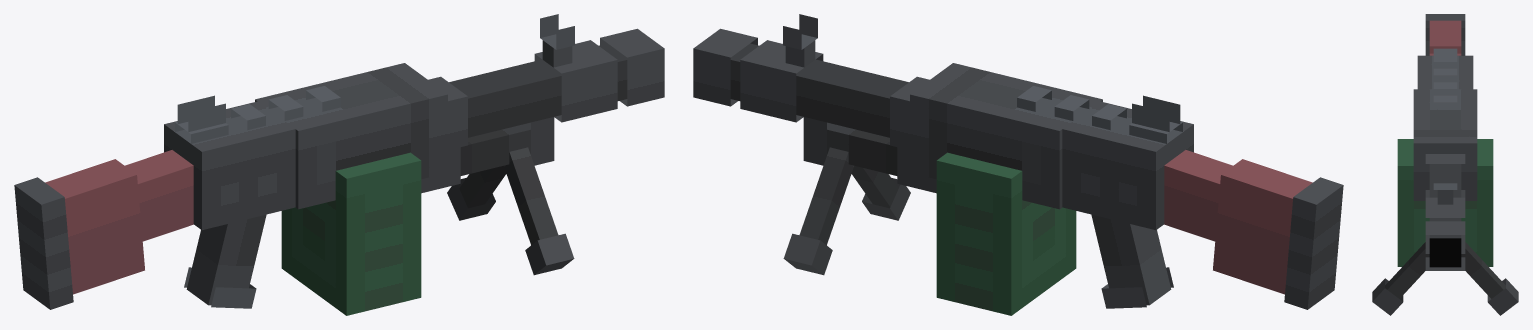
The model's file is GPMG.glb.
The picture shows the model from 3 angles, left to right: view 1: azimuth 30°, elevation 25°; view 2: azimuth 150°, elevation 25°; view 3: azimuth 270°, elevation 25°; orthographic projection. The views are drawn at different scales.
Parts seen in each view (by area): view 1: cube; view 2: cube; view 3: cube.
Part boxes in pixels (x1=…): cube: x1=14, y1=14, x2=664, y2=315; cube: x1=693, y1=14, x2=1343, y2=315; cube: x1=1372, y1=14, x2=1518, y2=315.
Size of the model in its own units: 33.28 by 11.02 by 9.18.
1 material, 1 textured.
